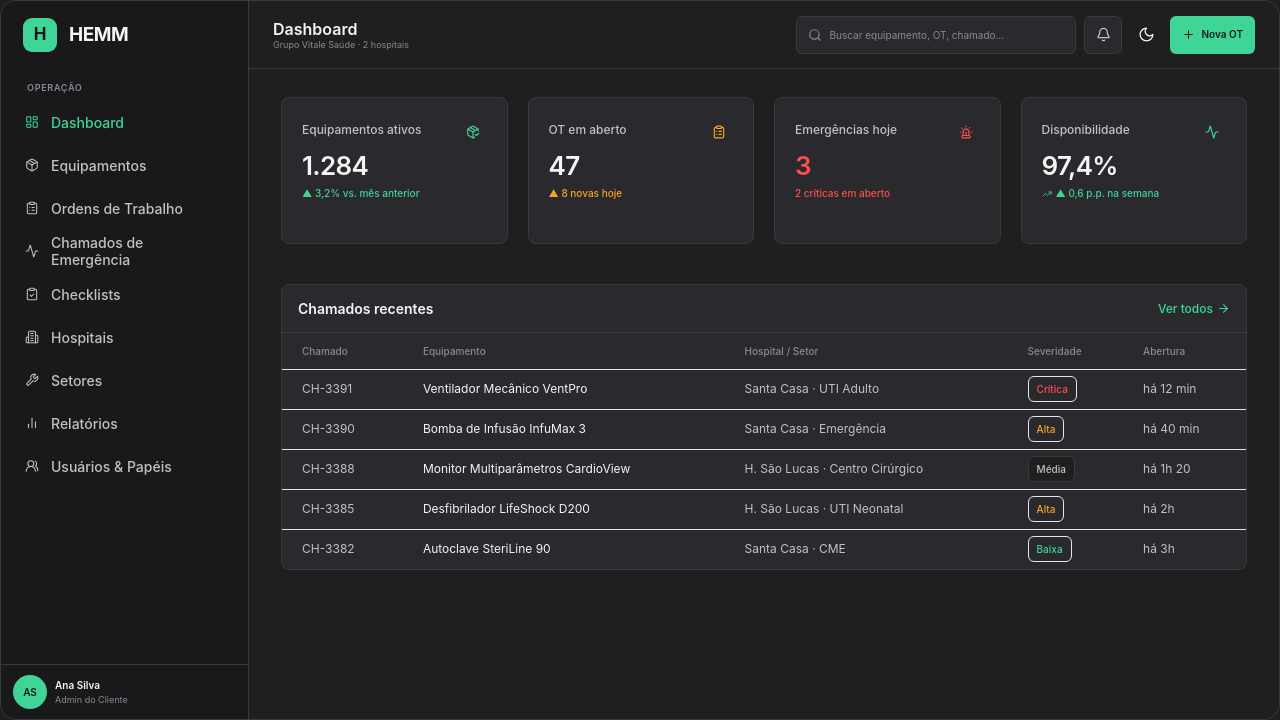
Test case: DashboardPage › abre notificações ancoradas e oferece os três modos de tema
The width and height of the screenshot is (1280, 720).
Click the button named "Notificações".
click(1104, 34)  # box [1084,16,1122,54]
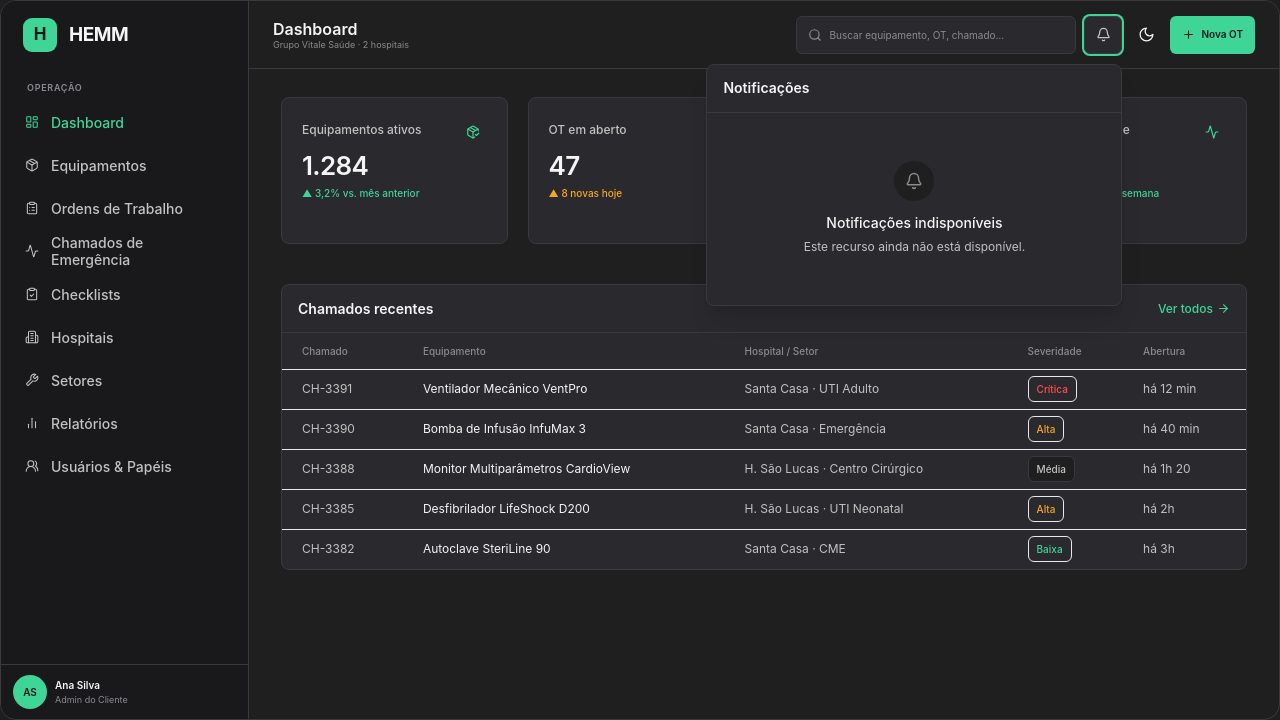
Expected: the dialog "Notificações" is shown, [706,64,1122,306]
Expected: the text "Notificações indisponíveis" is shown, [826,212,1003,232]
Click the button named "Selecionar tema".
click(1146, 34)  # box [1130,18,1162,50]
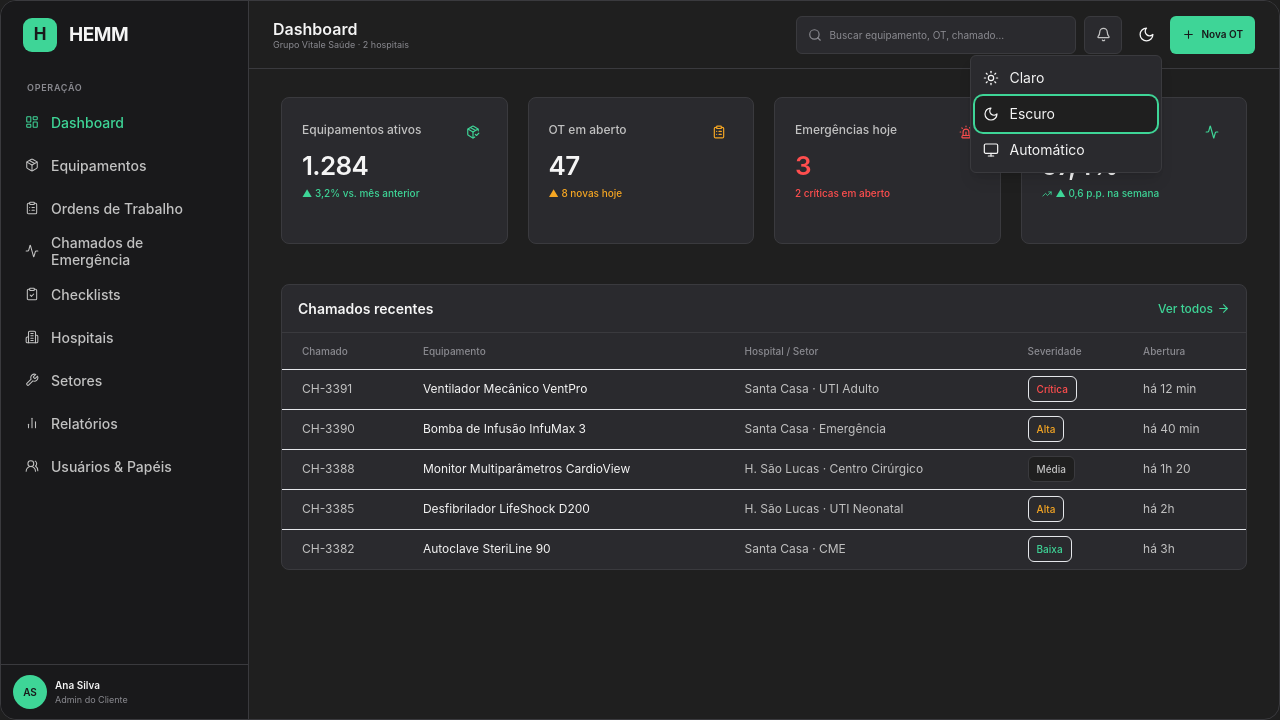
Expected: the menu item "Claro" is shown, [976,60,1158,96]
Expected: the menu item "Escuro" is shown, [976,96,1158,132]
Expected: the menu item "Automático" is shown, [976,132,1158,168]
